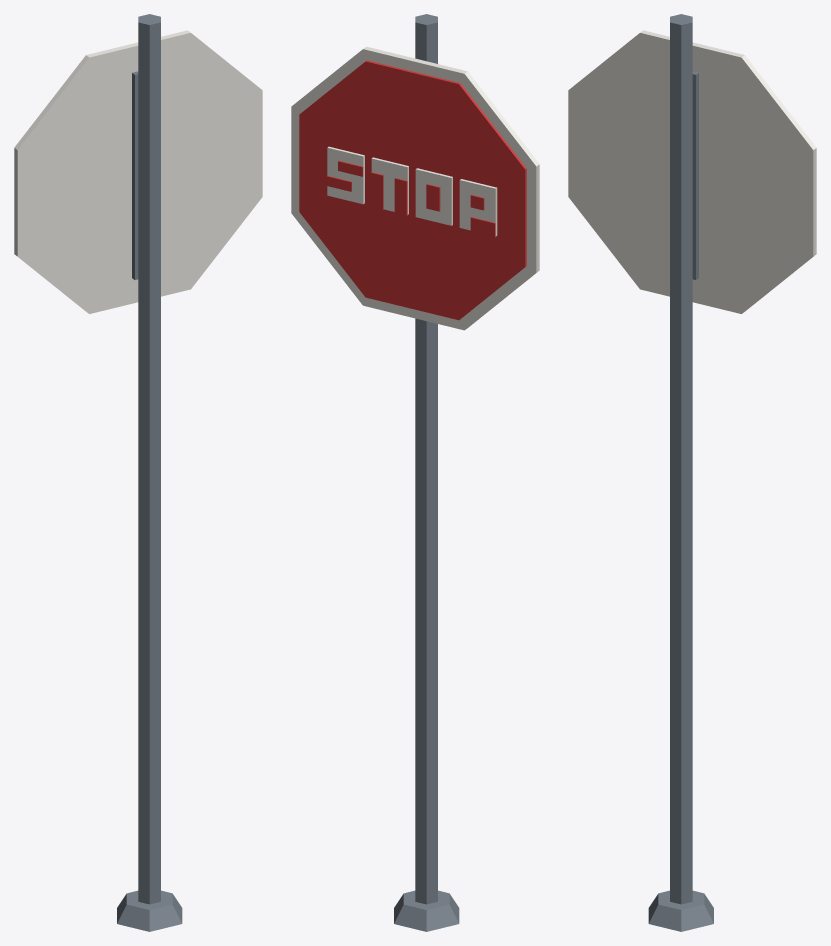
File: stop_sign.glb
The picture shows the model from 3 angles, left to right: view 1: azimuth 30°, elevation 25°; view 2: azimuth 150°, elevation 25°; view 3: azimuth 330°, elevation 25°; orthographic projection.
Visible parts, largest first — view 1: Body; view 2: Body; view 3: Body.
Boxes of the visible parts, x1,y1,x2,y2 form: Body: [14, 14, 262, 931]; Body: [291, 14, 539, 931]; Body: [568, 14, 816, 931].
Size of the model in its own units: 0.75 by 2.62 by 0.1746.
